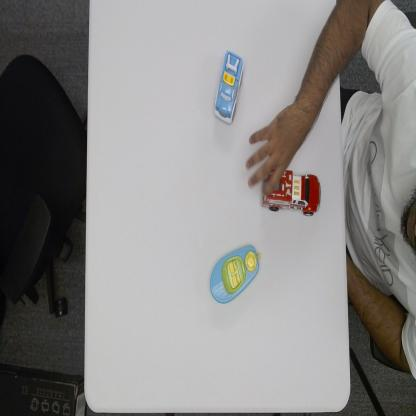Arm: (302, 0, 338, 132)
Boat: (209, 242, 262, 304)
Car: (213, 48, 245, 126)
Firetruck: (260, 167, 322, 220)
Hand: (245, 104, 306, 196)
